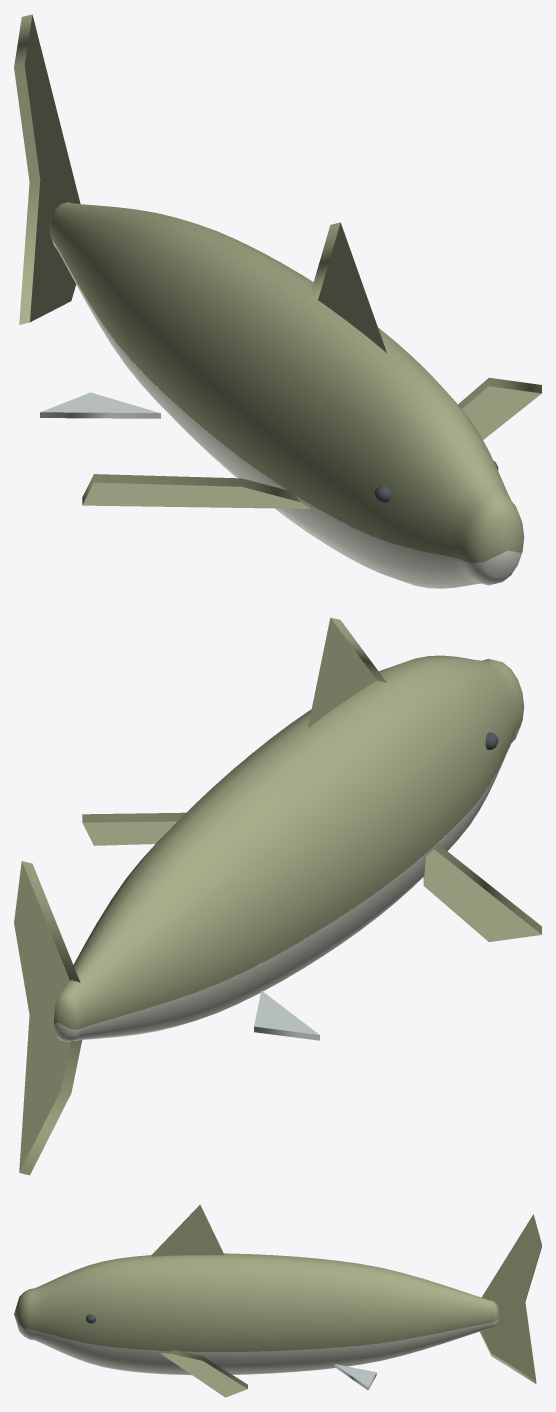
Rendered from ocean_mahi.glb.
3 views of the same model, one above another, from view 1: azimuth 30°, elevation 25°; view 2: azimuth 150°, elevation 25°; view 3: azimuth 270°, elevation 25° (orthographic). The views are drawn at different scales.
Visible parts, largest first — view 1: mahi-mahi; view 2: mahi-mahi; view 3: mahi-mahi.
Part boxes in pixels (bbox=[...]): mahi-mahi: bbox=[14, 14, 541, 588]; mahi-mahi: bbox=[14, 617, 541, 1175]; mahi-mahi: bbox=[14, 1204, 541, 1397].
Size of the model in its own units: 0.7063 by 0.4814 by 1.3.
